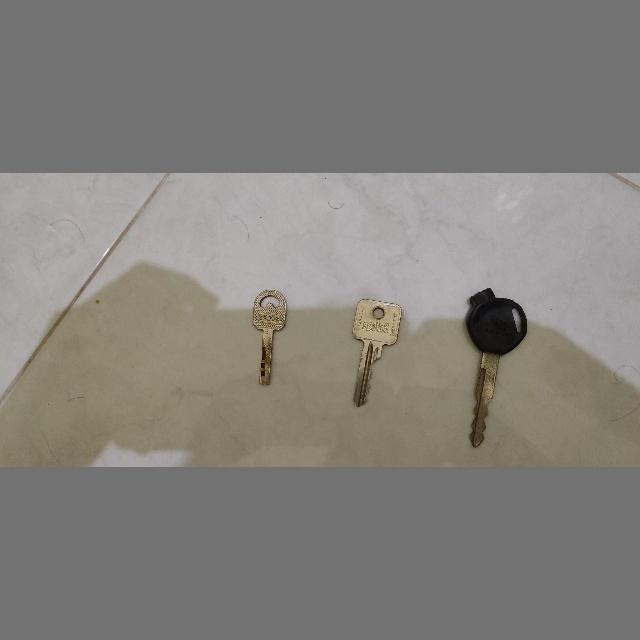Keys: (459, 284, 533, 448), (338, 296, 404, 412), (242, 286, 290, 388)
